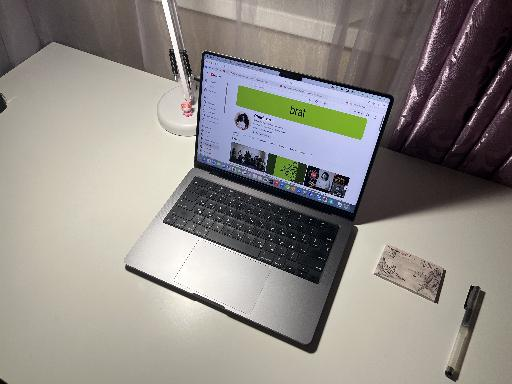youtube: (198, 67, 383, 179)
